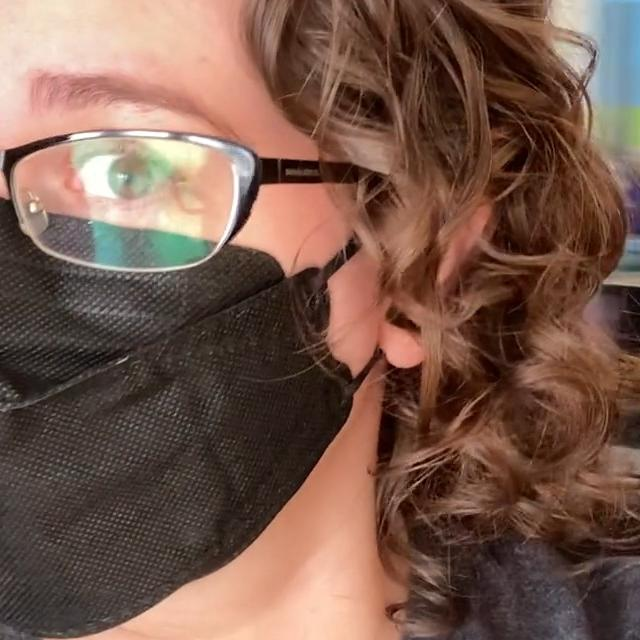Mask: (0, 202, 395, 620)
Person: (0, 0, 640, 640)
